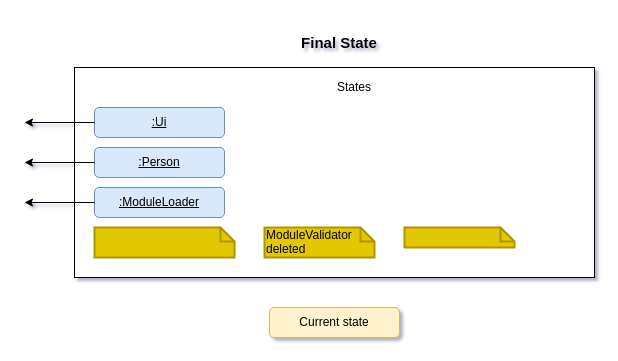
The diagram is 618 pixels wide and 361 high, and some of its shapes have lost their labels. Here are the shapes that lost their labels. From the top down, the box of each, then its label:
(93, 226, 235, 258): EditModuleCommand deleted
(403, 226, 515, 248): EditUtils deleted
